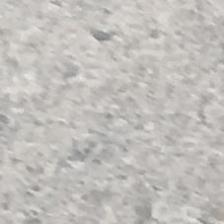Non_Crack: (18, 14, 216, 222)
